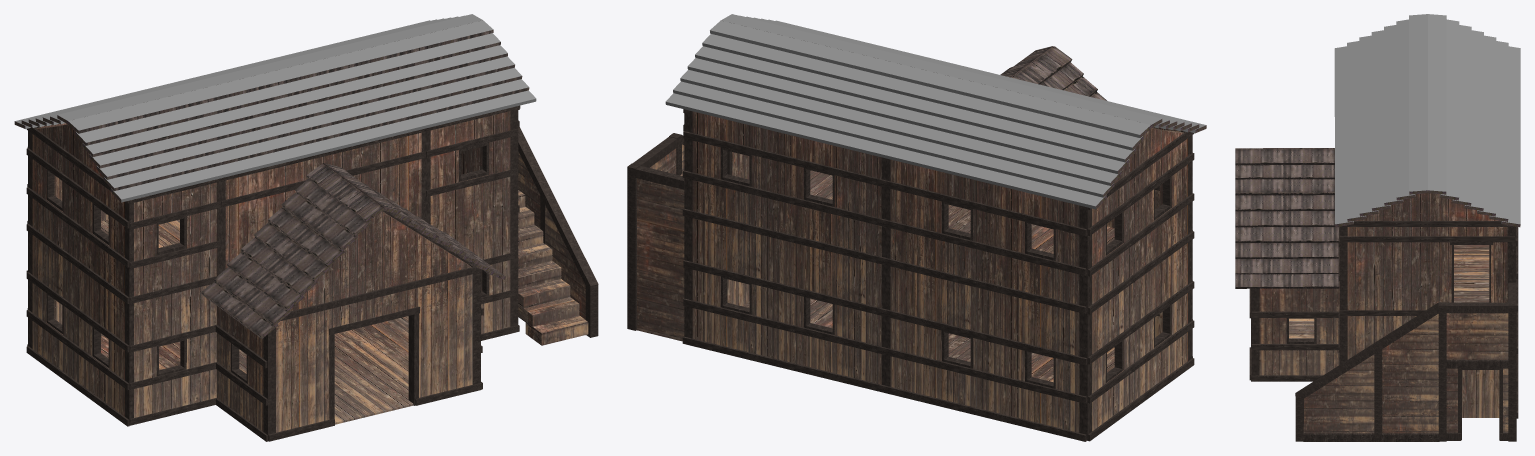
Rendered from woodhouse.obj.
3 views of the same model, side by side, from view 1: azimuth 30°, elevation 25°; view 2: azimuth 150°, elevation 25°; view 3: azimuth 270°, elevation 25° (orthographic). The views are drawn at different scales.
Visible parts, largest first — view 1: HOUSE2; view 2: HOUSE2; view 3: HOUSE2.
Part boxes in pixels (x1,y1,x2,y2): HOUSE2: (14,14,598,441); HOUSE2: (627,14,1206,441); HOUSE2: (1235,14,1520,441).
Size of the model in its own units: 454 by 259 by 285.
Materials: 6 (5 with a texture image).
